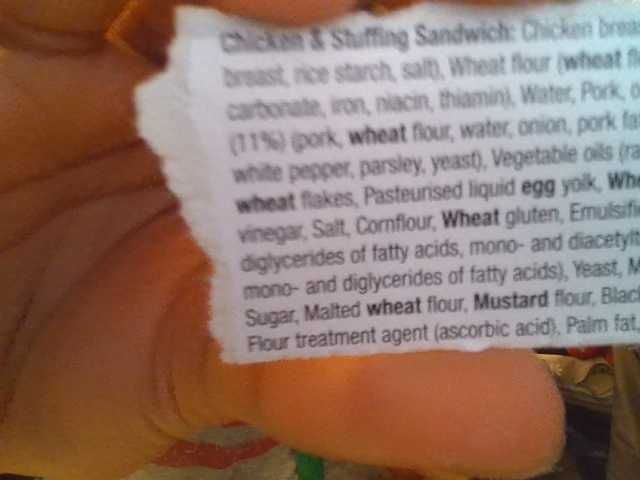egg: (521, 179, 555, 201)
